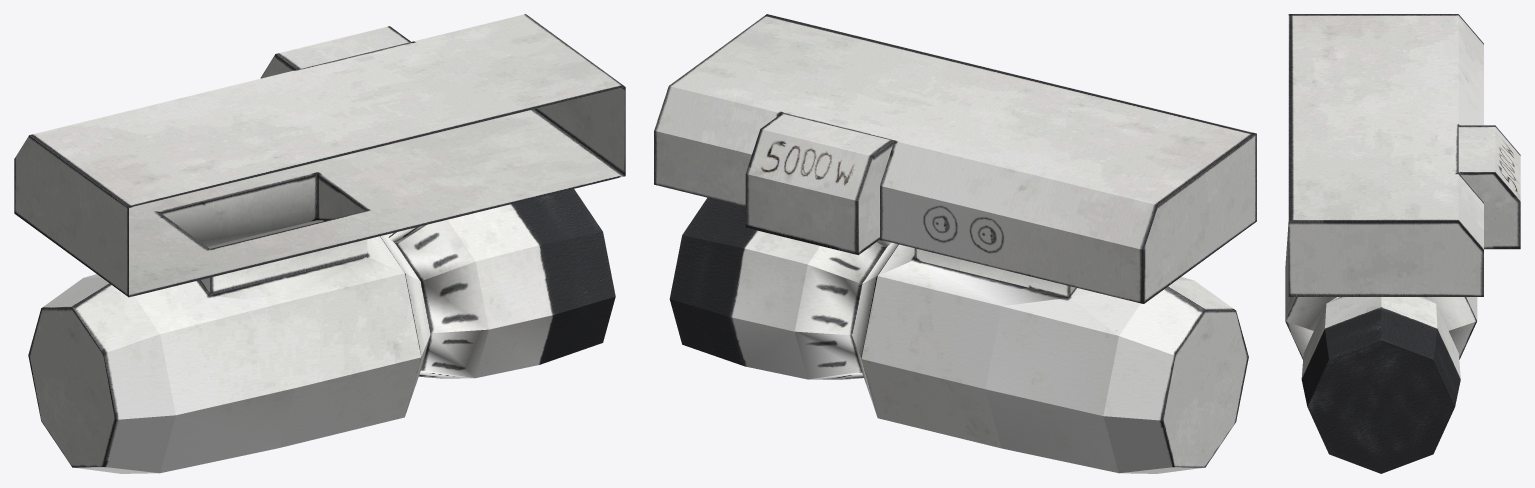
The model's file is Generator.fbx.
3 renders of one model, left to right at view 1: azimuth 30°, elevation 25°; view 2: azimuth 150°, elevation 25°; view 3: azimuth 270°, elevation 25°, orthographic. The views are drawn at different scales.
Visible parts, largest first — view 1: Cylinder.003; view 2: Cylinder.003; view 3: Cylinder.003.
Boxes of the visible parts, x1,y1,x2,y2 form: Cylinder.003: (14,14,625,473); Cylinder.003: (654,14,1256,473); Cylinder.003: (1285,14,1520,473).
Bounding box in the file's own units: 192 × 118 × 91.87.
